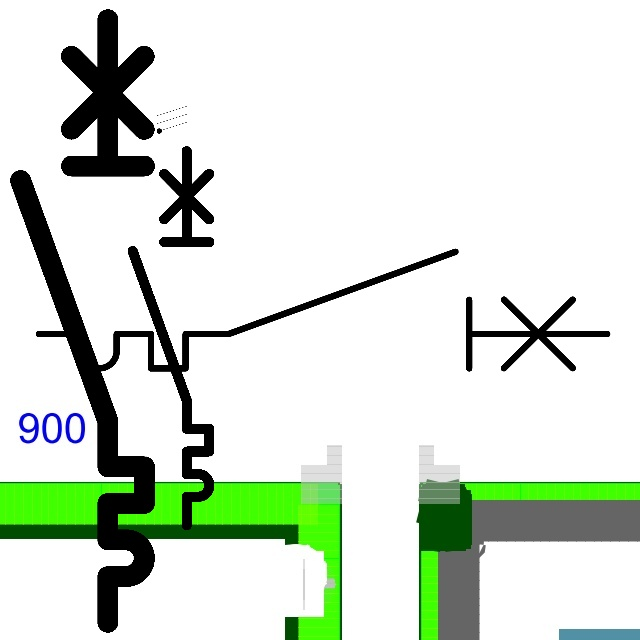interruptor_termomagnetico: (5, 4, 160, 638), (24, 237, 622, 383), (123, 141, 219, 534)
